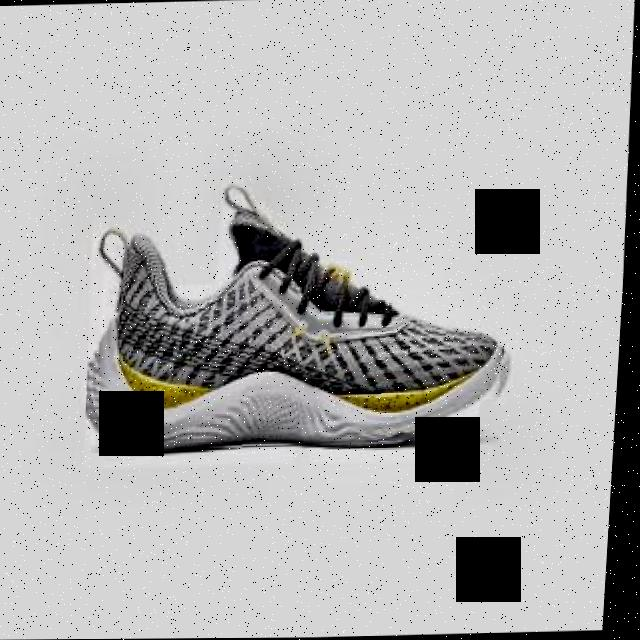shoe: (84, 181, 524, 453)
